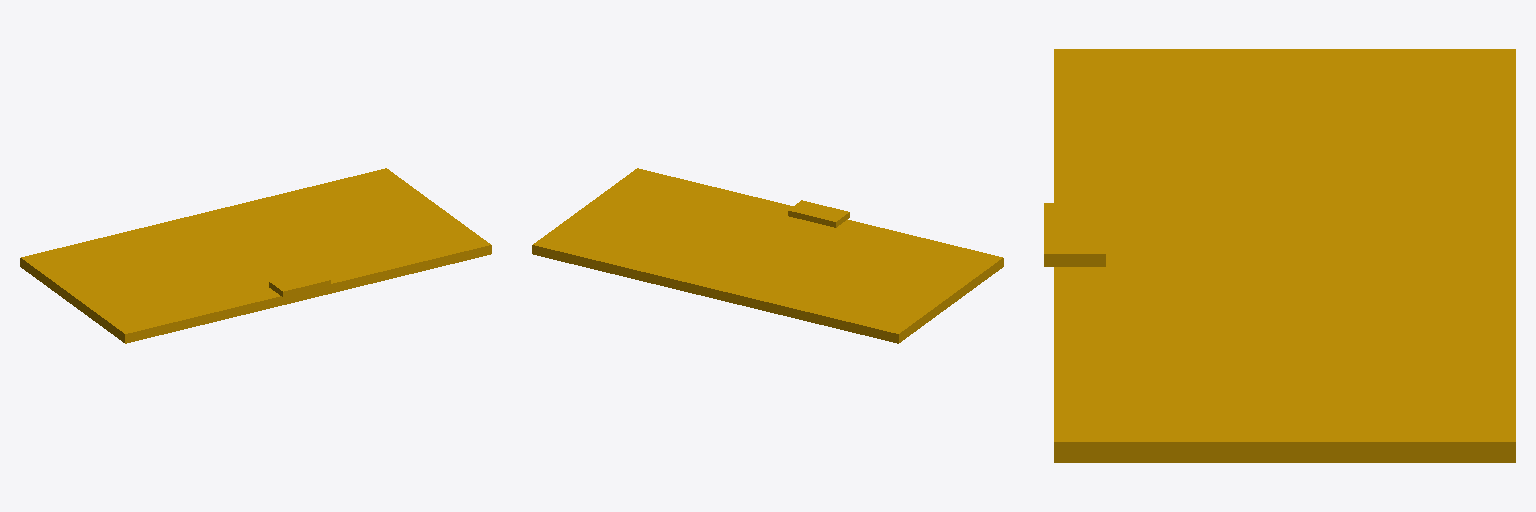
URDF robot description (threedof):
<?xml version="1.0"?>

<robot name="threedof">

  <!-- ******************************************************** -->
  <!-- ******************* Kinematic Chain ******************** -->
  <!-- ******************************************************** -->
  <!-- Note the 'origin' tag in the joints defines the shift and
       reorientation, i.e. the transform.  For moving joints, this
       happens before the continuous joint rotates around 'axis'. -->

  <!-- World can't take a visual element (at least in Gazebo). -->
  <link name="world"/>

  <joint name="tableplacement" type="fixed">
    <parent link="world"/>
    <child  link="table"/>
    <origin xyz="0 0 0" rpy="0 0 0"/>
  </joint>

  <link name="table">
    <visual>
      <origin xyz="0.0 0.0 0.0" rpy="-1.5708 0 0"/>
      <geometry>
        <mesh filename="package://threedof/meshes/Table.STL"
	      scale="0.001 0.001 0.001"/>
      </geometry>
      <material name="wood"/>
    </visual>
  </link>

  <joint name="placement" type="fixed">
    <parent link="table"/>
    <child  link="baseplate"/>
    <origin xyz="0.748 0.01 0.0" rpy="0 0 0"/>			<!-- WHERE IS THE BASE -->
  </joint>

  <!-- BASE PLATE: Shift across the base plate to the base motor. --> 
  <link name="baseplate">
    <visual>
      <origin xyz="0.0 0.025 0.0125" rpy="0 0 0"/>
      <geometry>
	<box size="0.2 0.1 0.0230"/>
      </geometry>
      <material name="wood"/>
    </visual>
  </link>

  <joint name="baseplate" type="fixed">
    <parent link="baseplate"/>
    <child  link="basemotor"/>
    <origin xyz="0 0 0.0230" rpy="0 0 0"/>
  </joint>

  <!-- BASE MOTOR: Thickness: X5 = 31.1mm, X8 = 45.1mm -->
  <link name="basemotor">
    <visual>
      <origin xyz="0.0 0.0 0.0" rpy="0 0 -1.5708"/>
      <geometry>
        <mesh filename="package://threedof/meshes/X8.stl"
	      scale="0.001 0.001 0.001"/>
      </geometry>
      <material name="hebi"/>
    </visual>
  </link>

  <joint name="base" type="continuous">
    <parent link="basemotor"/>
    <child  link="lbracket"/>
    <origin xyz="0 0.035 0.03321" rpy="0 0 -1.5508"/>
    <axis   xyz="0 0 1"/>
  </joint>

  <!-- L BRACKET: Shift and rotate across the L bracket. -->
  <link name="lbracket">
    <!-- Add a visual element -->
  </link>

  <joint name="lbracket" type="fixed">
    <parent link="lbracket"/>
    <child  link="shouldermotor"/>
    <origin xyz="0.005 0.031 0.057" rpy="0 -1.5708 -1.5708"/>	  <!-- L BRACKET DIMENIONS -->
  </joint>

  <!-- SHOULDER MOTOR: Thickness: X5 = 31.1mm, X8 = 45.1mm -->
  <link name="shouldermotor">
    <visual>
      <origin xyz="0 0 -0.0065" rpy="0 0 3.14159"/>
      <geometry>
        <mesh filename="package://threedof/meshes/X5.stl"
	      scale="0.001 0.001 0.001"/>
      </geometry>
      <material name="hebi"/>
    </visual>
  </link>

  <joint name="shoulder" type="continuous">
    <parent link="shouldermotor"/>
    <child  link="upperarm"/>
    <origin xyz="0 0 0.0311" rpy="-3.14159 0 0.02"/>
    <axis   xyz="0 0 -1"/>
  </joint>

  <!-- UPPER ARM: Shift across the upper arm (1/4in thickness) -->
  <link name="upperarm">
    <visual>
      <origin xyz="0 0 0.00285" rpy="1.5708 0 0"/>  <!-- 0.25 0 0.00285 -->
      <geometry>
	      <mesh filename="package://threedof/meshes/upperarm.stl"
            scale="0.001 0.001 0.001"/>
      </geometry>
      <material name="wood"/>
    </visual>
    <!-- Add a visual element -->
  </link>

  <joint name="upperarm" type="fixed">
    <parent link="upperarm"/>
    <child  link="elbowmotor"/>
    <origin xyz="0.380 0 0.0057" rpy="3.14159 0 0"/>		  <!-- UPPER ARM DIMENIONS -->
  </joint>

  <!-- Elbow motor.  Thickness: X5 = 31.1mm, X8 = 45.1mm -->
  <link name="elbowmotor">
    <visual>
      <geometry>
        <mesh filename="package://threedof/meshes/X5.stl"
	      scale="0.001 0.001 0.001"/>
      </geometry>
      <material name="hebi"/>
    </visual>
  </link>

  <joint name="elbow" type="continuous">
    <parent link="elbowmotor"/>
    <child  link="lowerarm"/>
    <origin xyz="0 0 0.0311" rpy="0 0 0"/>
    <axis   xyz="0 0 1"/>
  </joint>

  <!-- Shift across the upper arm (1/4in thickness) -->
  <link name="lowerarm">
    <visual>
      <origin xyz="0 0 0" rpy="1.5708 0 0"/>
      <geometry>
        <mesh filename="package://threedof/meshes/pointer.stl"
            scale="0.001 0.001 0.001"/>
      </geometry>
      <material name="wood"/>
    </visual>
  </link>

  <joint name="lowerarm" type="fixed">
    <parent link="lowerarm"/>
    <child  link="tip"/>
    <origin xyz="0.370 0.00285 0.005" rpy="-1.5708 -1.5708 -1.5708"/>		  <!-- LOWER ARM DIMENIONS -->
  </joint>

  <!-- TIP FRAME -->
  <link name="tip"/>

  
  <!-- *************************************************** -->
  <!-- *************** Visual Link Elements ************** -->
  <!-- *************************************************** -->
  <!-- Note collada .dae files have better color/texture   -->
  <!-- suppport that STL files.                            -->

  <!-- Colors -->
  <material name="wood">  <color rgba="0.82 0.62 0.04 1"/>  </material>
  <material name="hebi">  <color rgba="0.82 0.06 0.06 1"/>  </material>

</robot>

--- Render facts (derived) ---
3 views of the same robot in one strip: view 1: azimuth 30°, elevation 25°; view 2: azimuth 150°, elevation 25°; view 3: azimuth 270°, elevation 25° (orthographic).
Robot: threedof — 10 links, 9 joints (3 continuous, 6 fixed); root link world; default pose: all joints at 0.
Links seen in each view (by area): view 1: table, baseplate; view 2: table, baseplate; view 3: table, baseplate.
Link boxes in pixels (x1=…): table: x1=20, y1=168, x2=491, y2=343; baseplate: x1=269, y1=270, x2=330, y2=296; table: x1=532, y1=168, x2=1003, y2=343; baseplate: x1=788, y1=200, x2=849, y2=227; table: x1=1054, y1=49, x2=1515, y2=462; baseplate: x1=1044, y1=203, x2=1105, y2=266.
Size in the robot's own frame: 1.52 by 0.7706 by 0.0621 metres.
Meshes: 5 distinct files referenced, 1 mesh visuals loaded (1 binary STL); not drawn: 5 (reference not matched to a file when rendering).